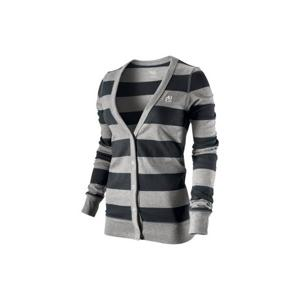S_cardigan sweater: (82, 58, 248, 245)
